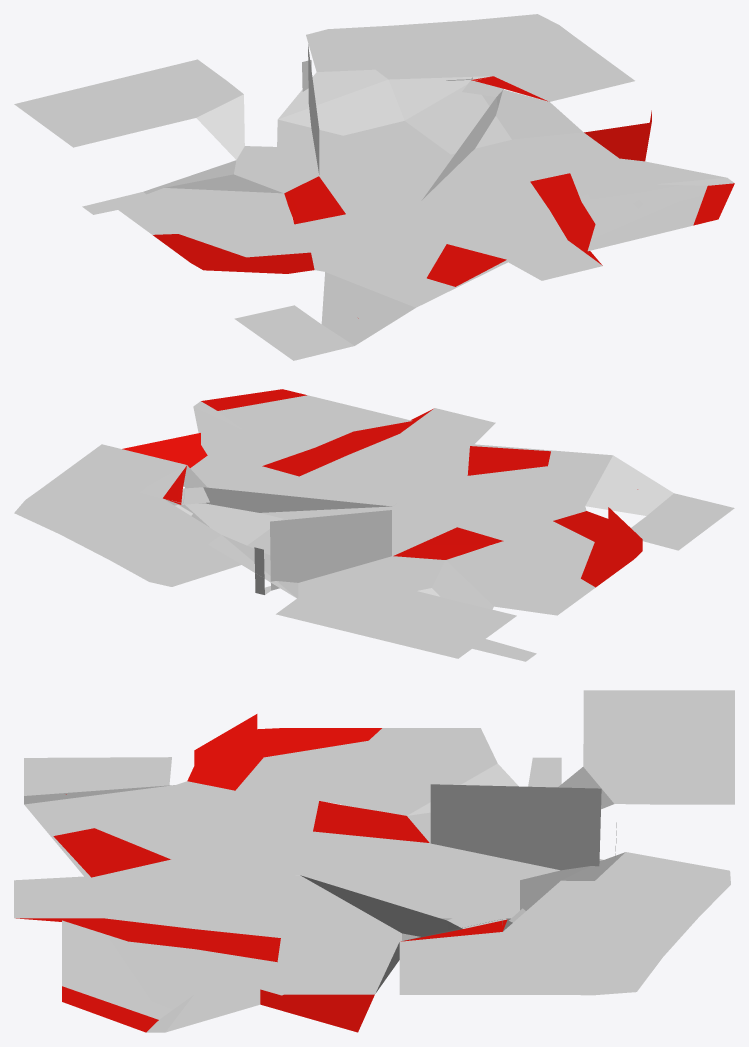
Rendered from MireiaDengra_GreyBox_Nivell1_Bushido 1.fbx.
3 renders of one model, top to bottom at view 1: azimuth 30°, elevation 25°; view 2: azimuth 150°, elevation 25°; view 3: azimuth 270°, elevation 25°, orthographic. The views are drawn at different scales.
Parts seen in each view (by area): view 1: Cube.002; view 2: Cube.002; view 3: Cube.002.
Boxes of the visible parts, <box> form: Cube.002: <box>14,14,734,360</box>; Cube.002: <box>14,389,734,661</box>; Cube.002: <box>14,690,734,1032</box>.
Size of the model in its own units: 9225 by 1688 by 9208.
